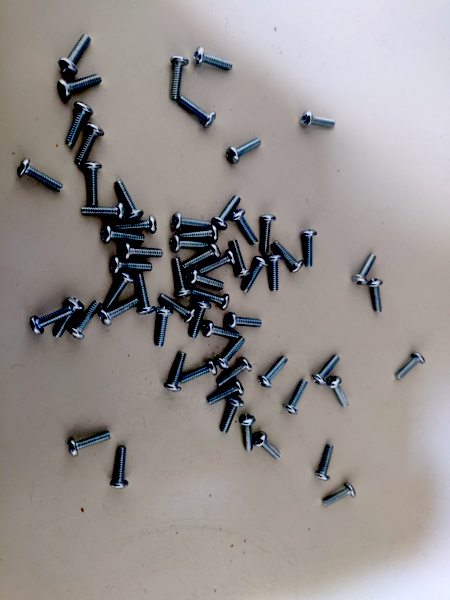shortscrew: (17, 158, 63, 192), (58, 34, 92, 77), (67, 300, 102, 340), (75, 123, 105, 167), (65, 102, 94, 147), (30, 307, 74, 336), (53, 298, 84, 339), (103, 272, 136, 310), (179, 96, 218, 128), (115, 179, 144, 221), (58, 74, 103, 101), (99, 298, 140, 327), (159, 293, 197, 324), (68, 431, 111, 458), (216, 358, 253, 388), (212, 195, 242, 231), (272, 241, 304, 274), (215, 337, 246, 371), (242, 256, 270, 293), (183, 243, 221, 270), (258, 356, 289, 389), (193, 46, 233, 71), (231, 209, 258, 246), (207, 380, 245, 406), (220, 396, 245, 435), (179, 360, 218, 385), (198, 250, 237, 275), (81, 162, 103, 206), (164, 351, 187, 393), (226, 137, 261, 164), (395, 352, 427, 381), (189, 299, 212, 339), (284, 378, 308, 415), (322, 482, 357, 507), (313, 355, 341, 386), (102, 224, 145, 244), (253, 431, 282, 460), (171, 56, 190, 100), (192, 289, 230, 311), (187, 268, 225, 290), (352, 253, 377, 286), (231, 240, 252, 279), (110, 256, 153, 275), (81, 203, 126, 221), (315, 444, 336, 482), (155, 306, 174, 348), (115, 215, 157, 234), (173, 257, 192, 298), (111, 446, 129, 489), (121, 242, 164, 260), (327, 376, 350, 409), (172, 212, 211, 231), (170, 235, 209, 254), (137, 274, 155, 315), (203, 321, 240, 340), (179, 225, 219, 242), (300, 111, 336, 129), (260, 215, 277, 253), (226, 313, 263, 330), (301, 230, 317, 268), (240, 415, 256, 452), (368, 279, 383, 314)
